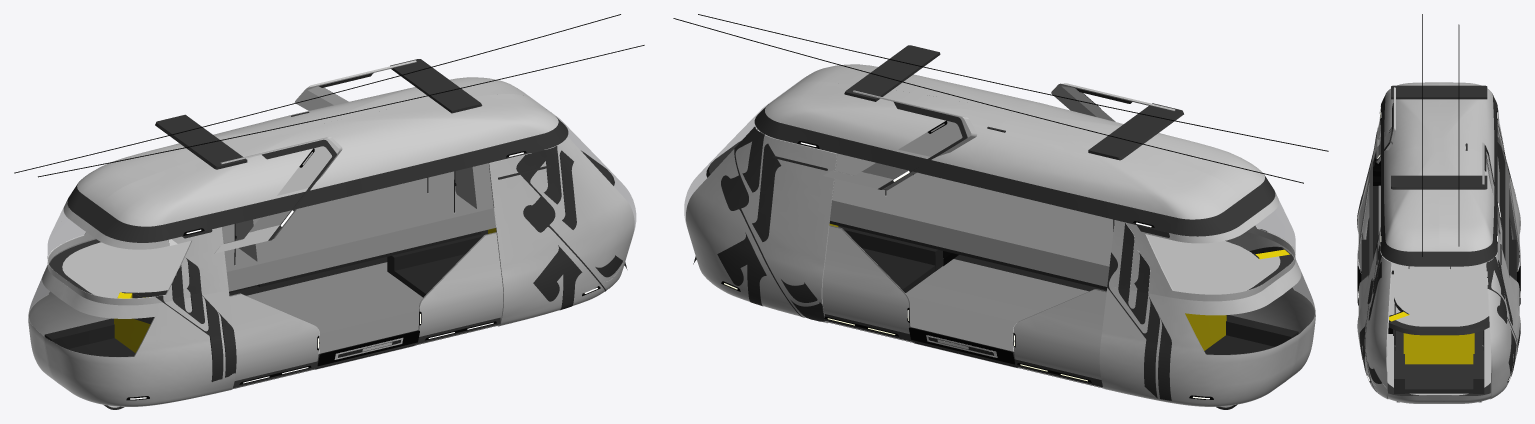
File: tram.glb
3 views of the same model, side by side, from view 1: azimuth 30°, elevation 25°; view 2: azimuth 150°, elevation 25°; view 3: azimuth 270°, elevation 25° (orthographic). The views are drawn at different scales.
Visible parts, largest first — view 1: Object_53, Object_46, Object_54, Object_55, Object_38, Object_45, Object_44, Object_58, Object_10, Object_43, Object_39, Object_30 (+6 smaller); view 2: Object_53, Object_46, Object_54, Object_38, Object_55, Object_45, Object_44, Object_58, Object_43, Object_18, Object_39, Object_11 (+6 smaller); view 3: Object_53, Object_54, Object_38, Object_45, Object_46, Object_44, Object_50, Object_55, Object_43, Object_58, Object_18, Object_10 (+6 smaller).
Boxes of the visible parts, x1,y1,x2,y2 form: Object_53: (47,77,634,353); Object_46: (28,91,635,369); Object_54: (28,94,558,388); Object_55: (43,208,496,406); Object_38: (44,117,568,387); Object_45: (49,150,614,389); Object_44: (155,59,482,169); Object_58: (214,60,416,253); Object_10: (516,146,606,291); Object_43: (14,14,644,177); Object_39: (126,148,600,400); Object_30: (533,245,582,310); Object_53: (686,81,1295,351); Object_46: (684,80,1315,367); Object_54: (792,64,1299,406); Object_38: (754,104,1298,387); Object_55: (829,200,1315,380); Object_45: (706,140,1293,388); Object_44: (844,45,1183,160); Object_58: (823,83,1175,190); Object_43: (673,14,1328,265); Object_18: (721,126,804,317); Object_39: (721,93,1213,399); Object_11: (717,232,766,306); Object_53: (1357,82,1520,403); Object_54: (1358,141,1520,314); Object_38: (1361,93,1516,393); Object_45: (1366,142,1511,395); Object_46: (1357,117,1520,349); Object_44: (1391,85,1487,189); Object_50: (1389,311,1474,364); Object_55: (1357,141,1508,274); Object_43: (1373,14,1459,333); Object_58: (1376,87,1502,250); Object_18: (1486,257,1517,353); Object_10: (1365,244,1382,393).
Size of the model in its own units: 16.53 by 6.22 by 4.98.
